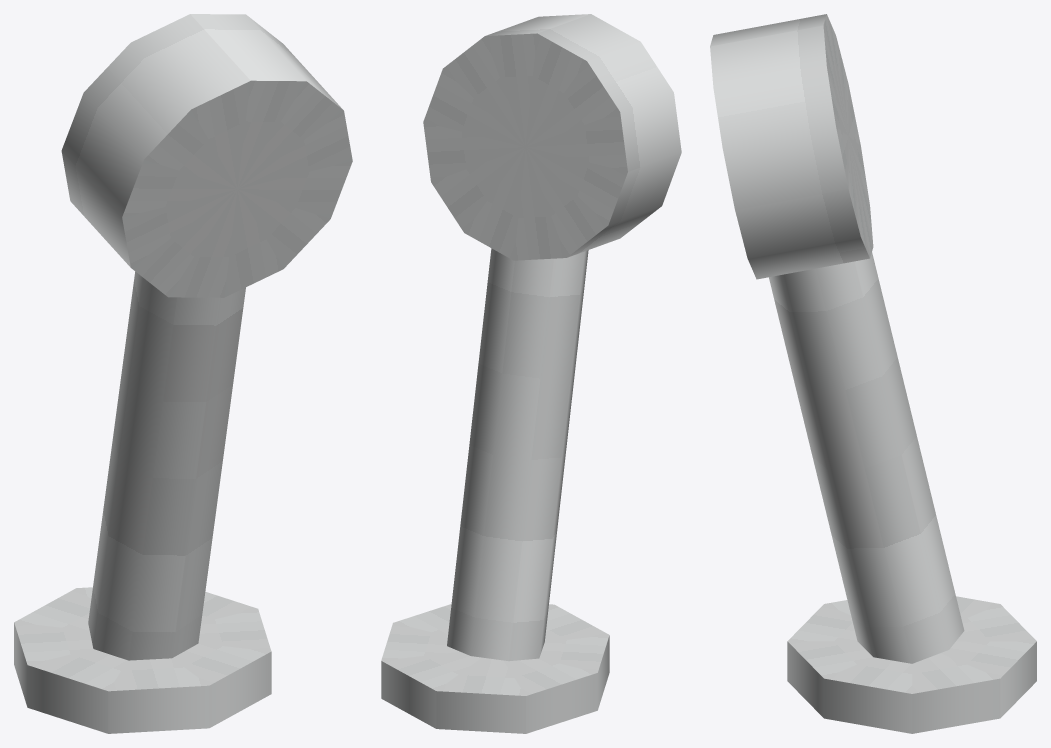
The model's file is trusssignalarm_stub_5.obj.
3 renders of one model, left to right at view 1: azimuth 30°, elevation 25°; view 2: azimuth 150°, elevation 25°; view 3: azimuth 270°, elevation 25°, orthographic. The views are drawn at different scales.
Visible parts, largest first — view 1: trusssignalarm_stub_5; view 2: trusssignalarm_stub_5; view 3: trusssignalarm_stub_5.
Boxes of the visible parts, <box> form: trusssignalarm_stub_5: <box>14,14,352,733</box>; trusssignalarm_stub_5: <box>381,14,681,733</box>; trusssignalarm_stub_5: <box>710,14,1036,733</box>.
Size of the model in its own units: 0.35 by 1.02 by 0.4587.
